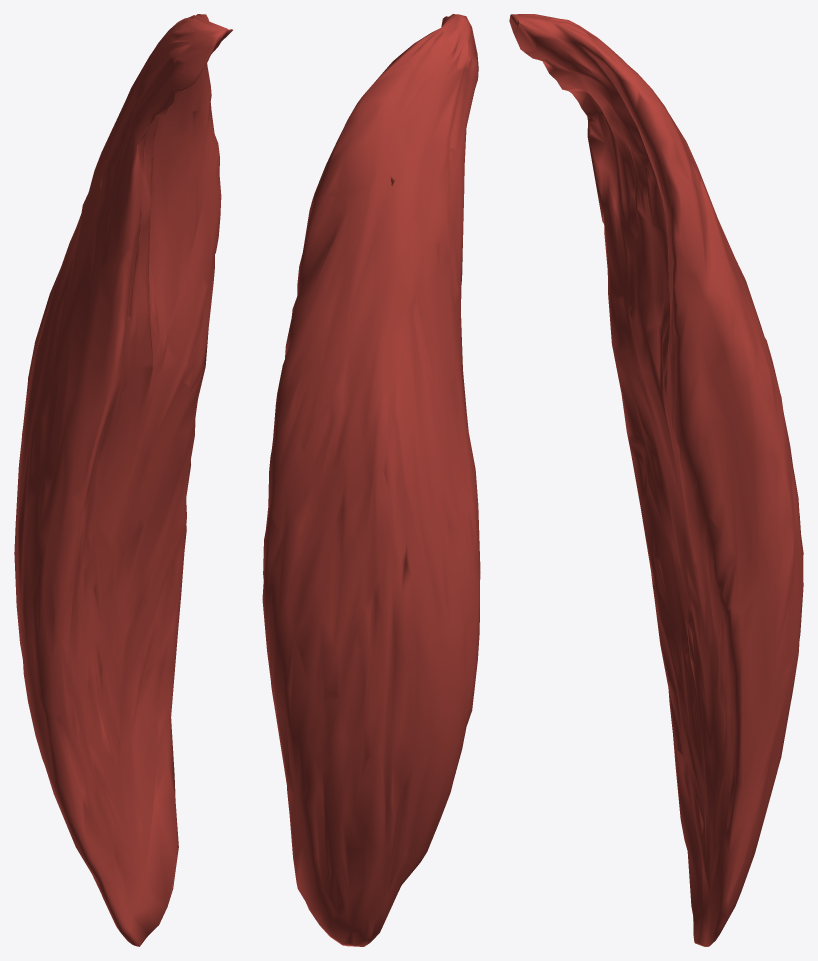
The model's file is musculos-lateral-head-of-gastrocnemius-r.glb.
3 renders of one model, left to right at view 1: azimuth 30°, elevation 25°; view 2: azimuth 150°, elevation 25°; view 3: azimuth 270°, elevation 25°, orthographic. The views are drawn at different scales.
Visible parts, largest first — view 1: Lateral head of gastrocnemius.r; view 2: Lateral head of gastrocnemius.r; view 3: Lateral head of gastrocnemius.r.
Part boxes in pixels (x1,y1,x2,y2): Lateral head of gastrocnemius.r: [14, 14, 232, 946]; Lateral head of gastrocnemius.r: [262, 14, 480, 946]; Lateral head of gastrocnemius.r: [509, 14, 803, 946].
Size of the model in its own units: 0.0541 by 0.2693 by 0.0779.
